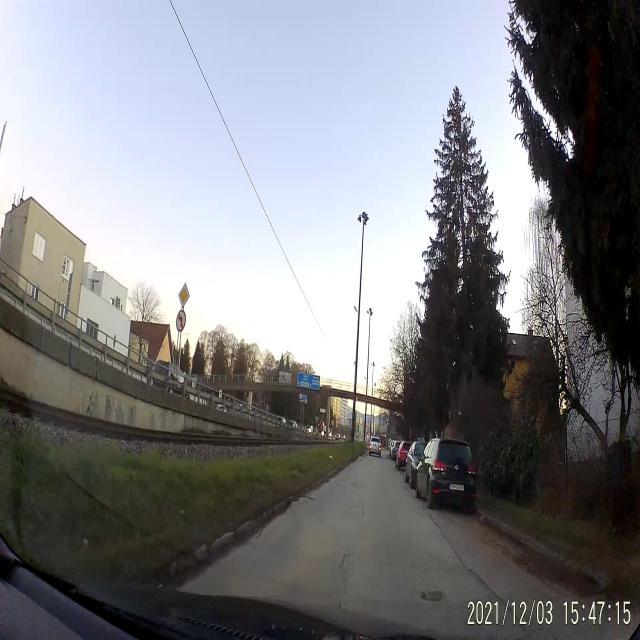Pothole: (418, 582, 446, 611)
